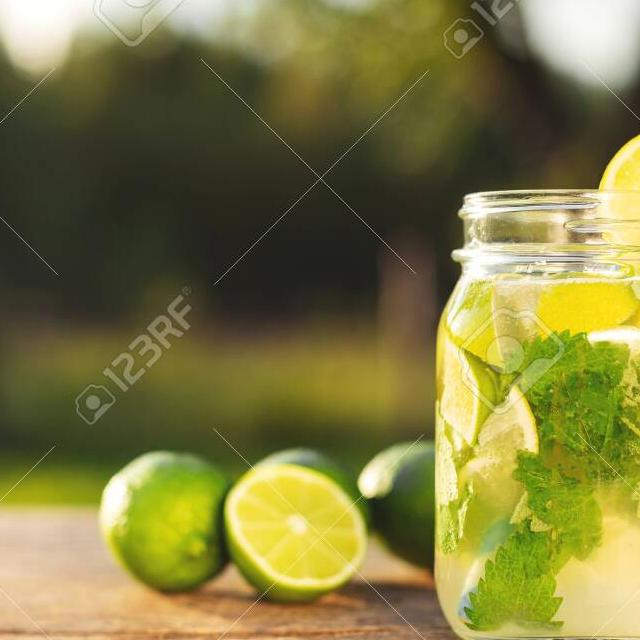lime: (357, 421, 543, 585), (93, 443, 246, 604), (235, 437, 374, 593)
